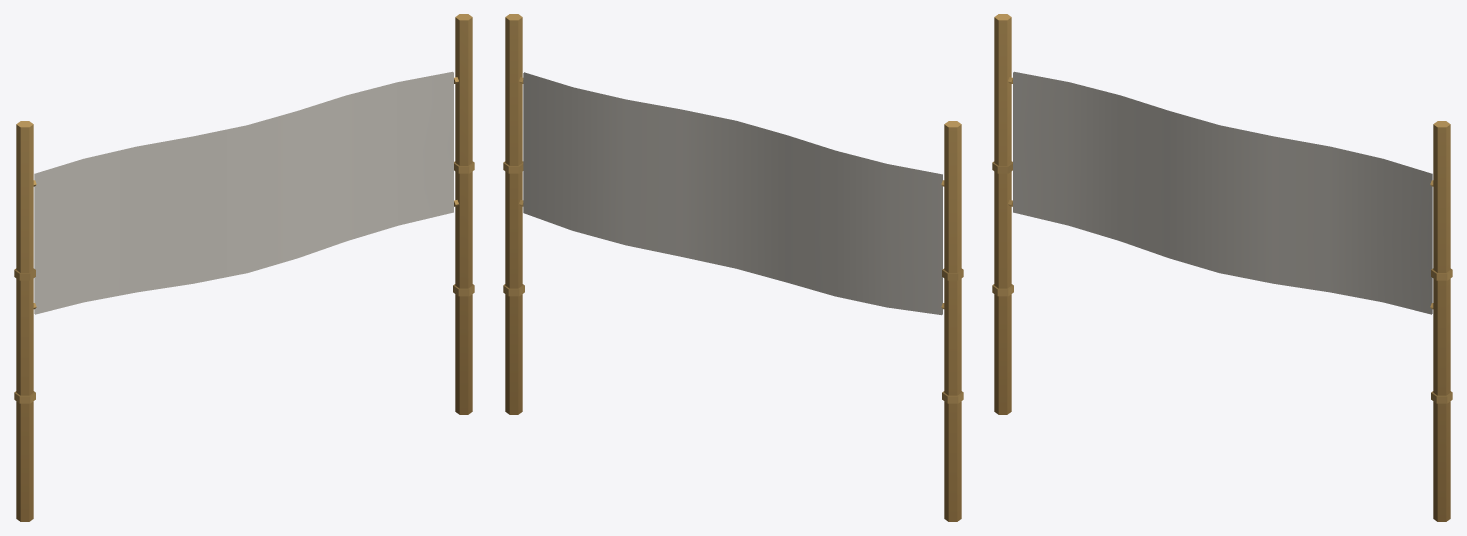
The model's file is spanduk.glb.
The picture shows the model from 3 angles, left to right: view 1: azimuth 30°, elevation 25°; view 2: azimuth 150°, elevation 25°; view 3: azimuth 330°, elevation 25°; orthographic projection.
Visible parts, largest first — view 1: Cloth, spanduk_mesh; view 2: Cloth, spanduk_mesh; view 3: Cloth, spanduk_mesh.
Part boxes in pixels (bbox=[...]): Cloth: bbox=[34, 71, 453, 314]; spanduk_mesh: bbox=[14, 14, 474, 521]; Cloth: bbox=[523, 72, 942, 315]; spanduk_mesh: bbox=[503, 14, 963, 521]; Cloth: bbox=[1013, 71, 1432, 314]; spanduk_mesh: bbox=[992, 14, 1452, 521].
Size of the model in its own units: 2.72 by 2.25 by 0.112.
